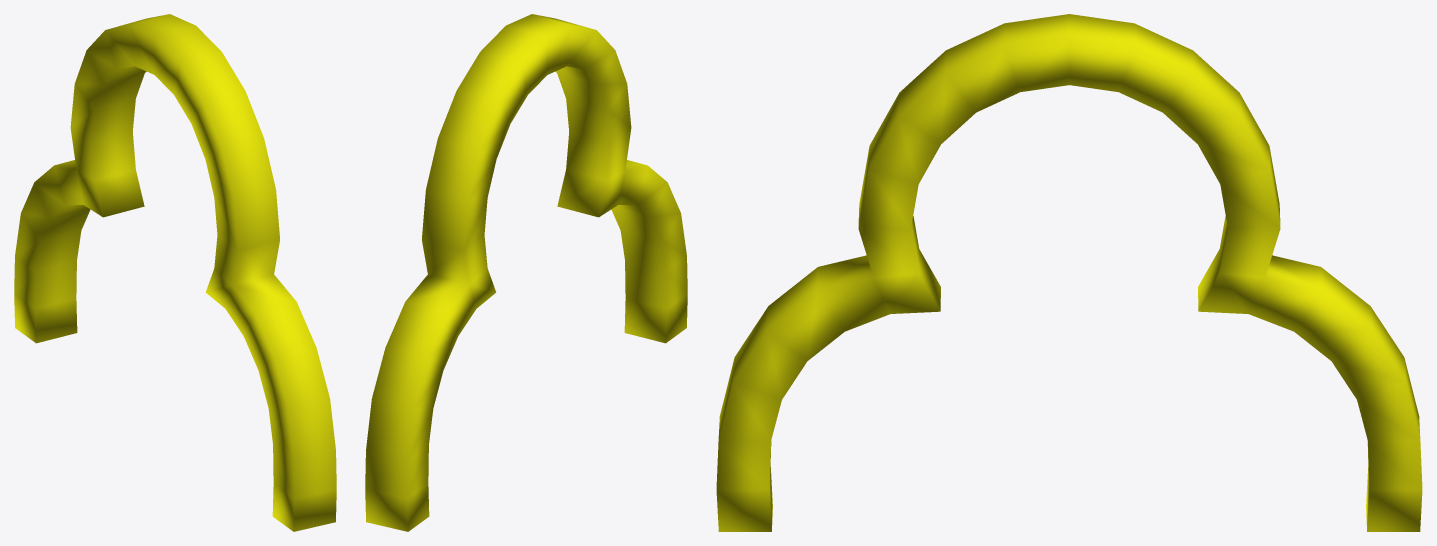
File: Gateway_04_A.fbx
3 views of the same model, side by side, from view 1: azimuth 30°, elevation 25°; view 2: azimuth 150°, elevation 25°; view 3: azimuth 270°, elevation 25° (orthographic). The views are drawn at different scales.
Visible parts, largest first — view 1: Gateway_04_A; view 2: Gateway_04_A; view 3: Gateway_04_A.
Part boxes in pixels (x1,y1,x2,y2): Gateway_04_A: (14,14,336,531); Gateway_04_A: (365,14,687,531); Gateway_04_A: (716,14,1422,531).
Size of the model in its own units: 16.81 by 152 by 197.
